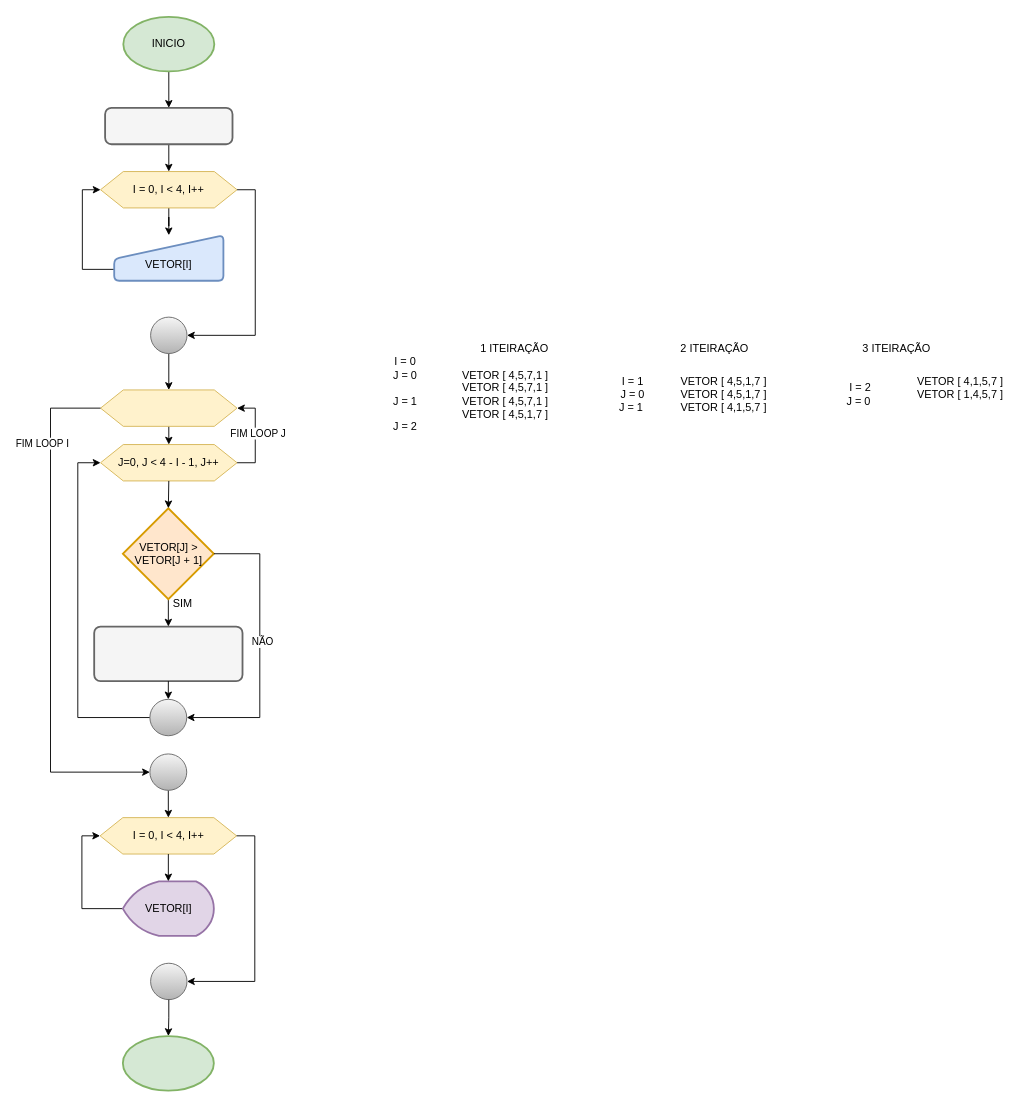
The diagram is 1031 pixels wide and 1107 high, and some of its shapes have lost their labels. Here are the shapes that lost their labels. From the top down, the centre of each, then its label:
At (168,125): "VETOR[4] TEMP = 0".
At (168,407): "I= 0, I < 4, I++".
At (168,653): "TEMP = VETOR[J + 1] VETOR[J + 1] = VETOR[J] VETOR[J] = TEMP".
At (167,1063): "FIM".
